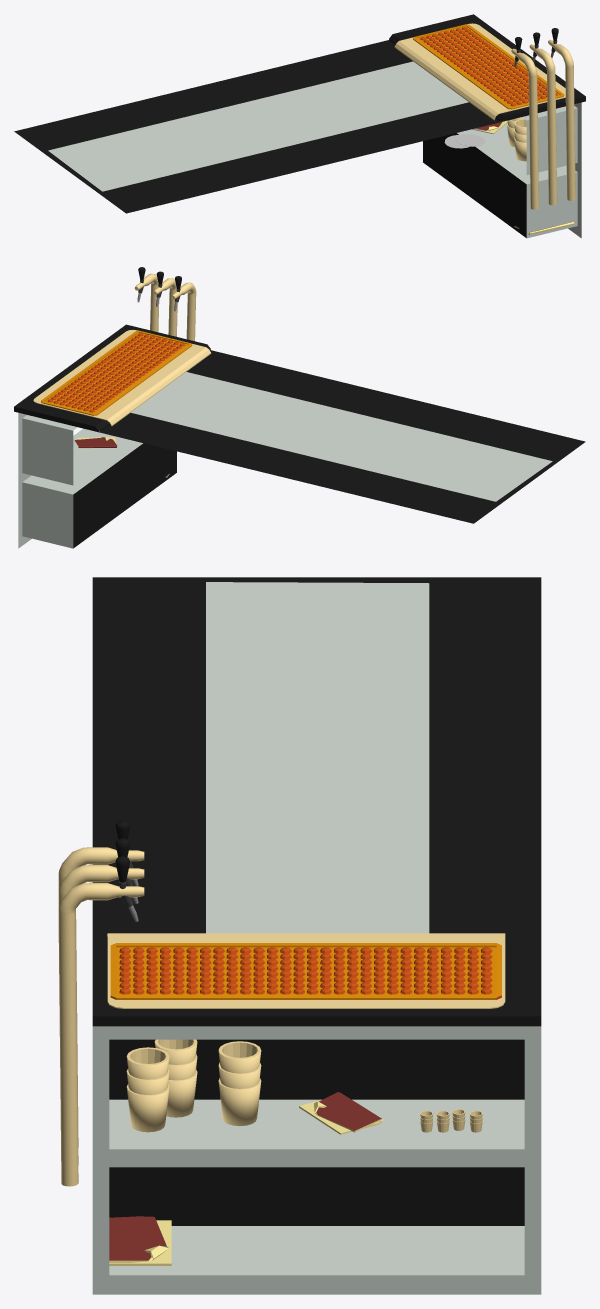
File: Table_black.FBX
3 views of the same model, one above another, from view 1: azimuth 30°, elevation 25°; view 2: azimuth 150°, elevation 25°; view 3: azimuth 270°, elevation 25° (orthographic). The views are drawn at different scales.
Visible parts, largest first — view 1: stol, bigpodstavka, skatert, kran.000, kran.002, kran.001, Cylinder.001, Podstavkapodkrygky.002; view 2: stol, bigpodstavka, skatert, kran.001, kran.002, kran.000, tryapka; view 3: stol, bigpodstavka, skatert, kran.002, Cylinder.002, stakan, Plane.001, Cylinder.001, tryapka, kran.000, kran.001.
Part boxes in pixels (x1,y1,x2,y2): stol: [14, 14, 585, 238]; bigpodstavka: [413, 24, 564, 109]; skatert: [394, 23, 565, 120]; kran.000: [529, 32, 557, 205]; kran.002: [548, 28, 575, 200]; kran.001: [511, 37, 538, 209]; Cylinder.001: [514, 118, 526, 161]; Podstavkapodkrygky.002: [455, 134, 485, 146]; stol: [14, 324, 585, 548]; bigpodstavka: [41, 330, 192, 415]; skatert: [33, 330, 211, 426]; kran.001: [171, 276, 196, 341]; kran.002: [134, 267, 159, 332]; kran.000: [153, 271, 177, 336]; tryapka: [74, 437, 117, 448]; stol: [92, 577, 541, 1294]; bigpodstavka: [110, 943, 501, 999]; skatert: [107, 933, 505, 1008]; kran.002: [58, 856, 144, 1186]; Cylinder.002: [218, 1041, 261, 1126]; stakan: [126, 1047, 169, 1132]; Plane.001: [109, 1216, 171, 1265]; Cylinder.001: [154, 1039, 197, 1117]; tryapka: [299, 1092, 382, 1134]; kran.000: [58, 838, 144, 1164]; kran.001: [58, 820, 144, 1147].
Bounding box in the file's own units: 7065 × 3074 × 3214.
